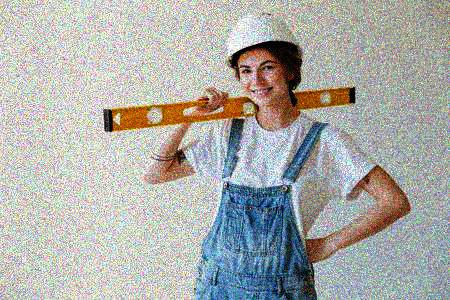helmet: (224, 10, 303, 107)
